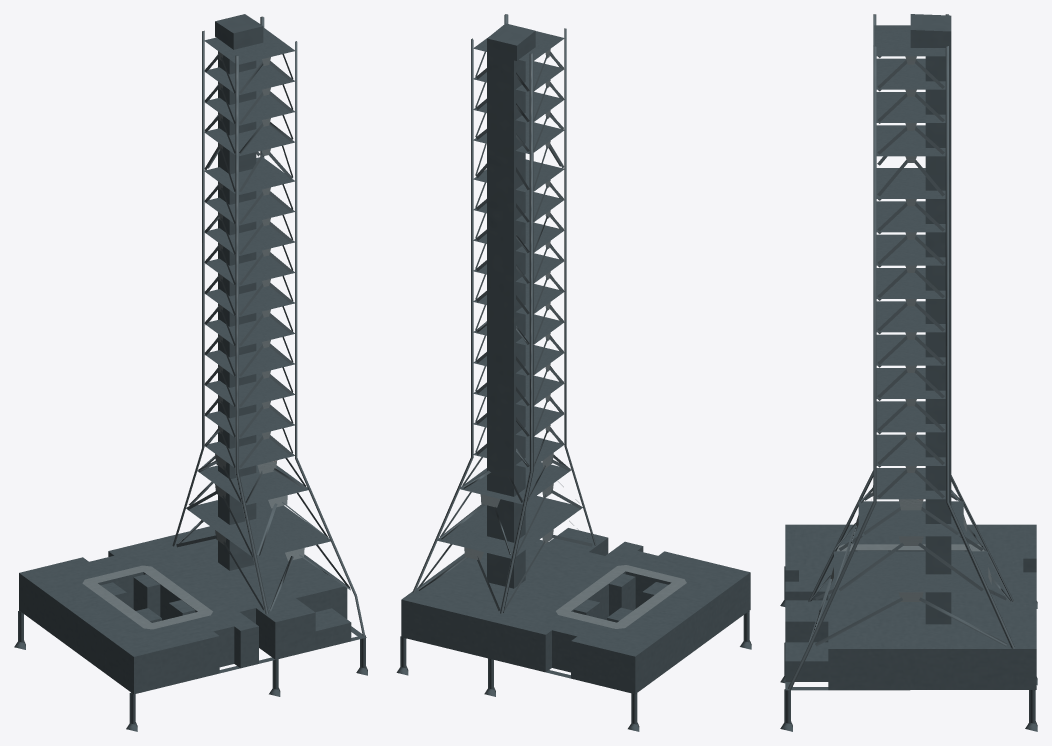
3 views of the same model, side by side, from view 1: azimuth 30°, elevation 25°; view 2: azimuth 150°, elevation 25°; view 3: azimuth 270°, elevation 25° (orthographic). The views are drawn at different scales.
Parts seen in each view (by area): view 1: ML_LP; view 2: ML_LP; view 3: ML_LP.
Part boxes in pixels (x1=…): ML_LP: x1=14, y1=14, x2=367, y2=731; ML_LP: x1=396, y1=14, x2=751, y2=731; ML_LP: x1=780, y1=14, x2=1037, y2=731.
Bounding box in the file's own units: 101 × 246 × 85.26.
1 material, 1 textured.
